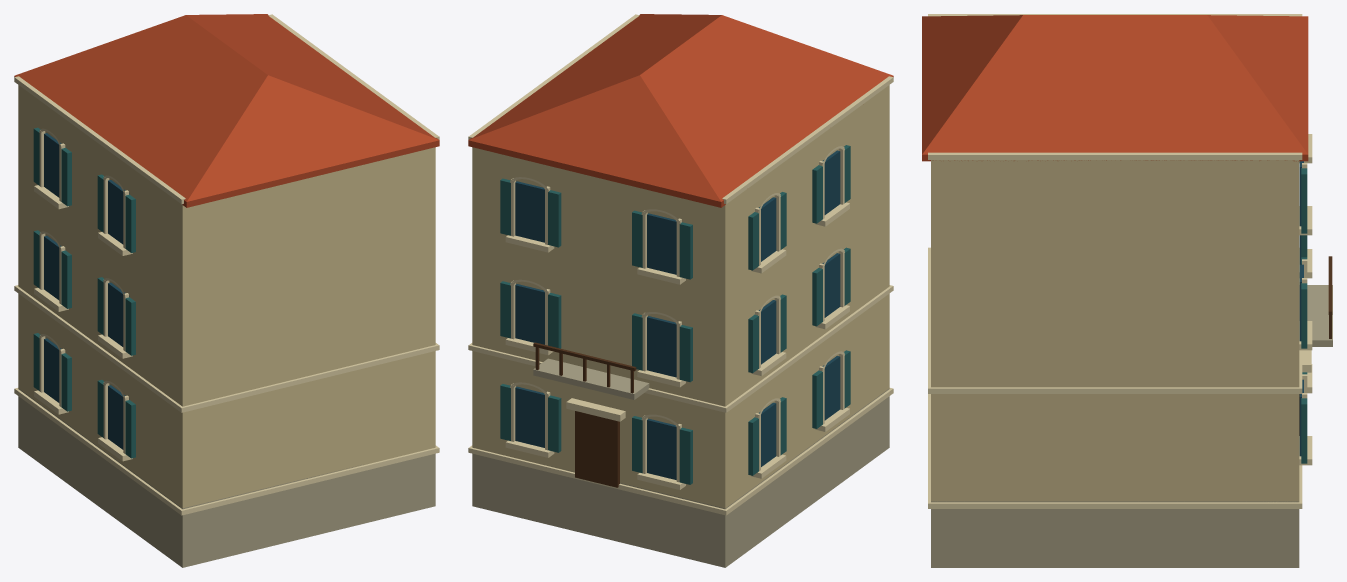
File: corner_house.glb
3 views of the same model, side by side, from view 1: azimuth 30°, elevation 25°; view 2: azimuth 150°, elevation 25°; view 3: azimuth 270°, elevation 25° (orthographic). The views are drawn at different scales.
Visible parts, largest first — view 1: House; view 2: House; view 3: House.
Boxes of the visible parts, left/top/right/bottom form: House: left=14, top=14, right=439, bottom=567; House: left=468, top=14, right=893, bottom=567; House: left=922, top=14, right=1332, bottom=567.
Bounding box in the file's own units: 8.39 × 13.04 × 10.04.
